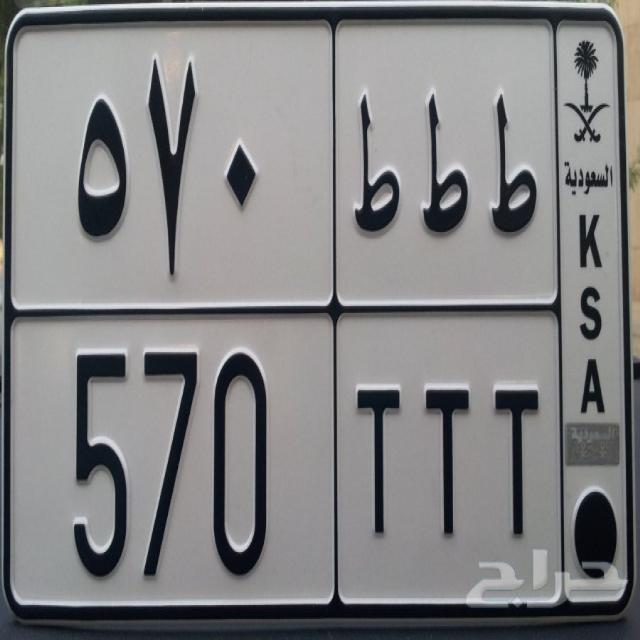license_plate: (5, 310, 568, 616)
